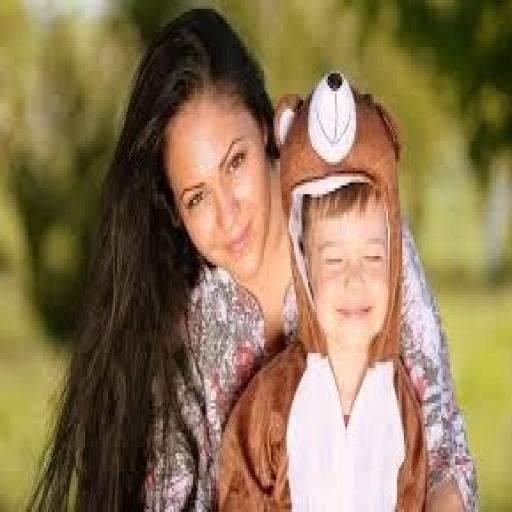hugging: (23, 6, 480, 509)
